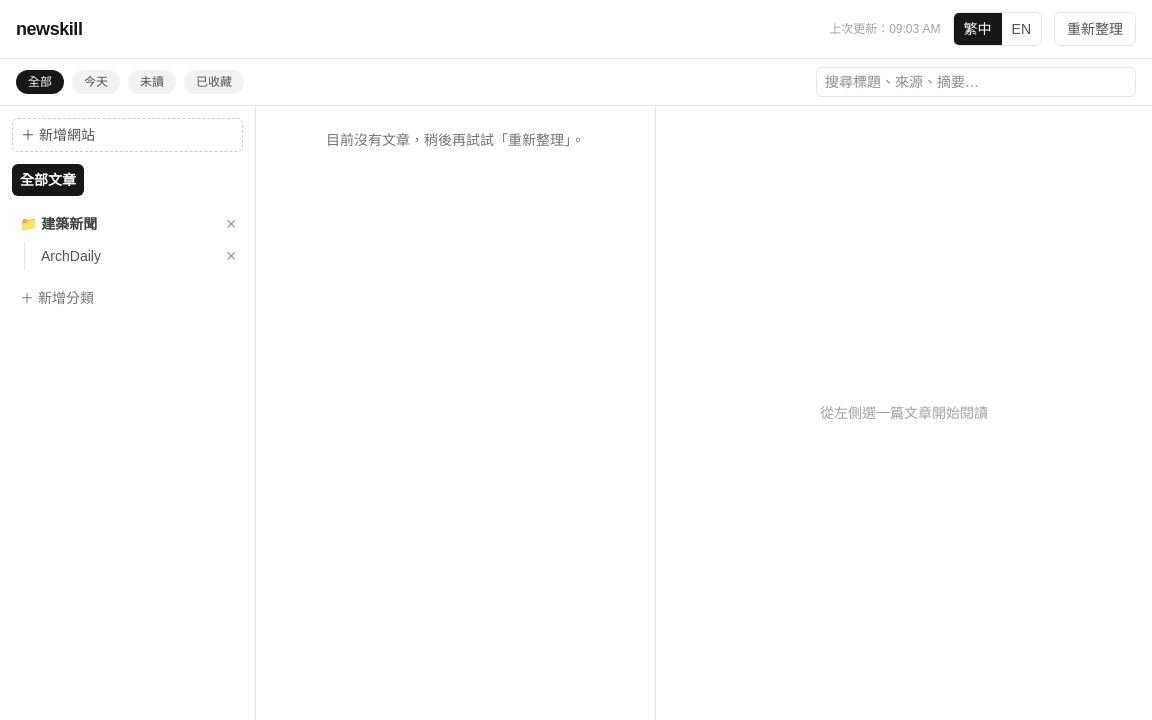
NewsApp — add/delete are always usable once logged in (no separate admin gate) › the manual-add tab shows the URL/RSS/DOI/ISSN input
The image size is (1152, 720).
Click the button "＋ 新增網站": (128, 135) [12,118,243,152]
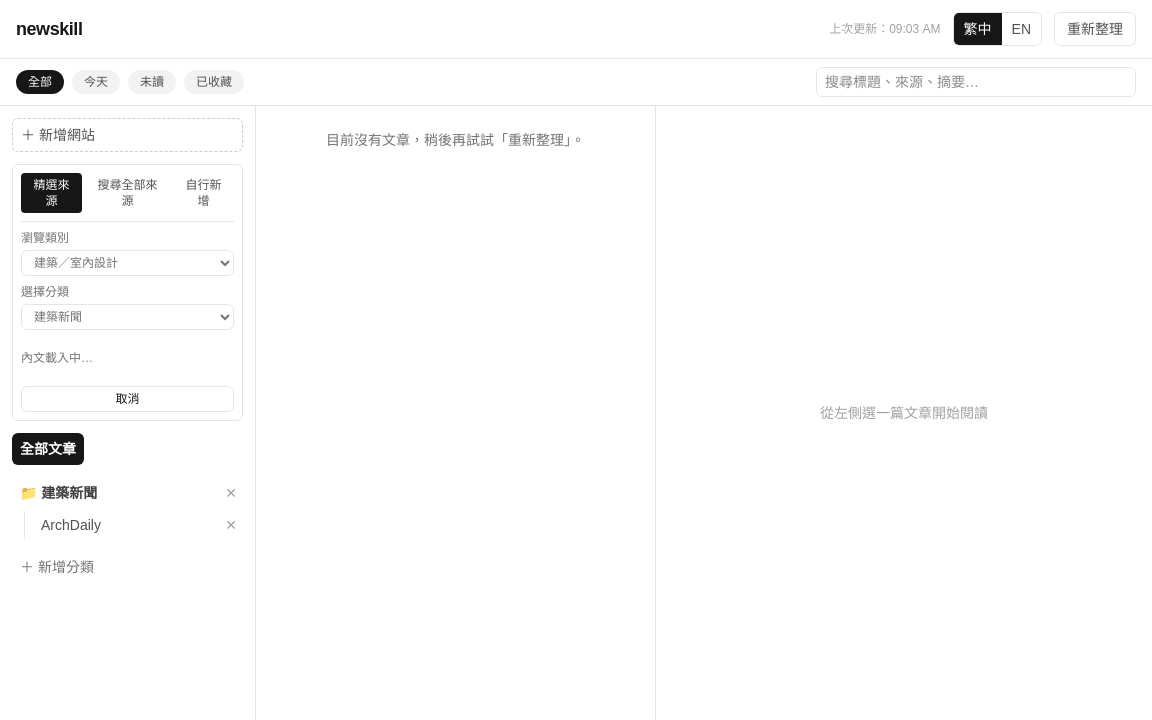
Click the button "自行新增": (204, 193) [173,173,234,213]
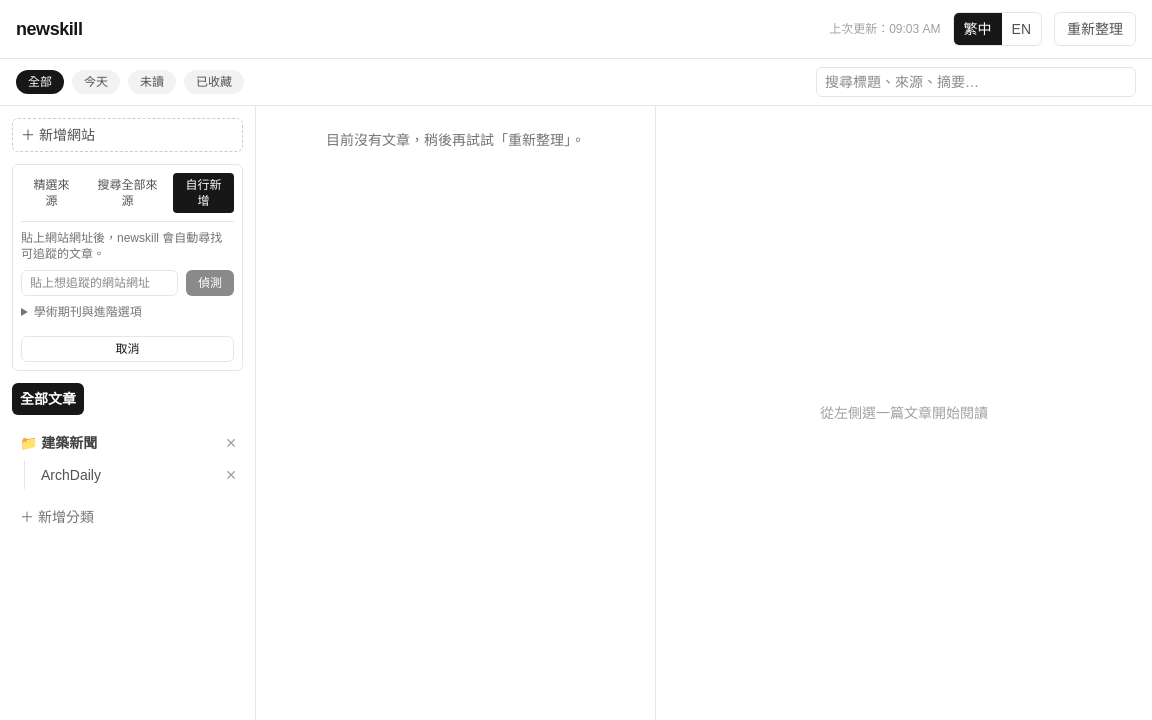
Check: the field with placeholder "貼上想追蹤的網站網址" is shown, box [21,270,178,296]
